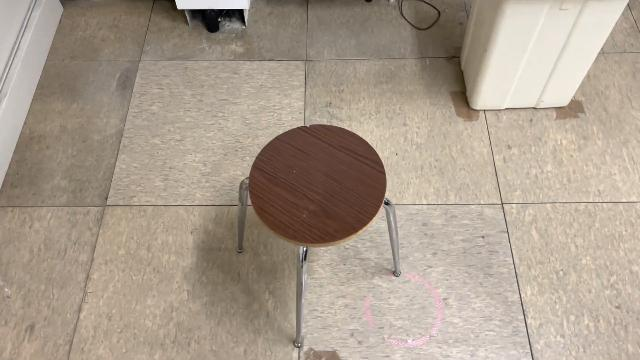Stool: (230, 120, 408, 352)
